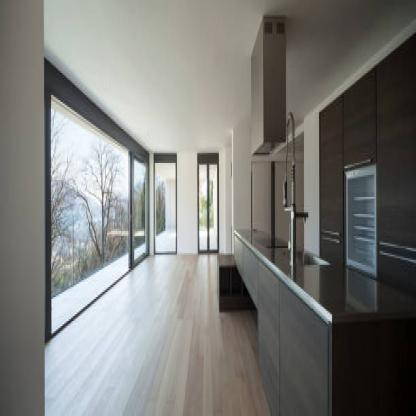Cabinet: (234, 234, 416, 416), (319, 32, 416, 316)
Window: (43, 56, 149, 347), (154, 151, 178, 260), (196, 149, 220, 254)
